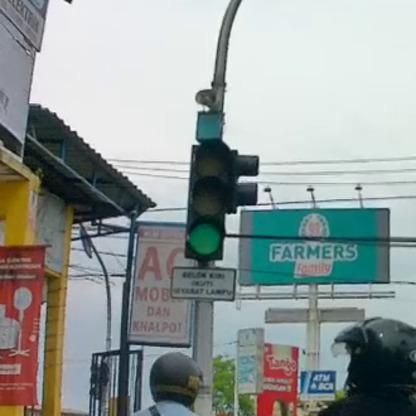green: (185, 141, 232, 261)
